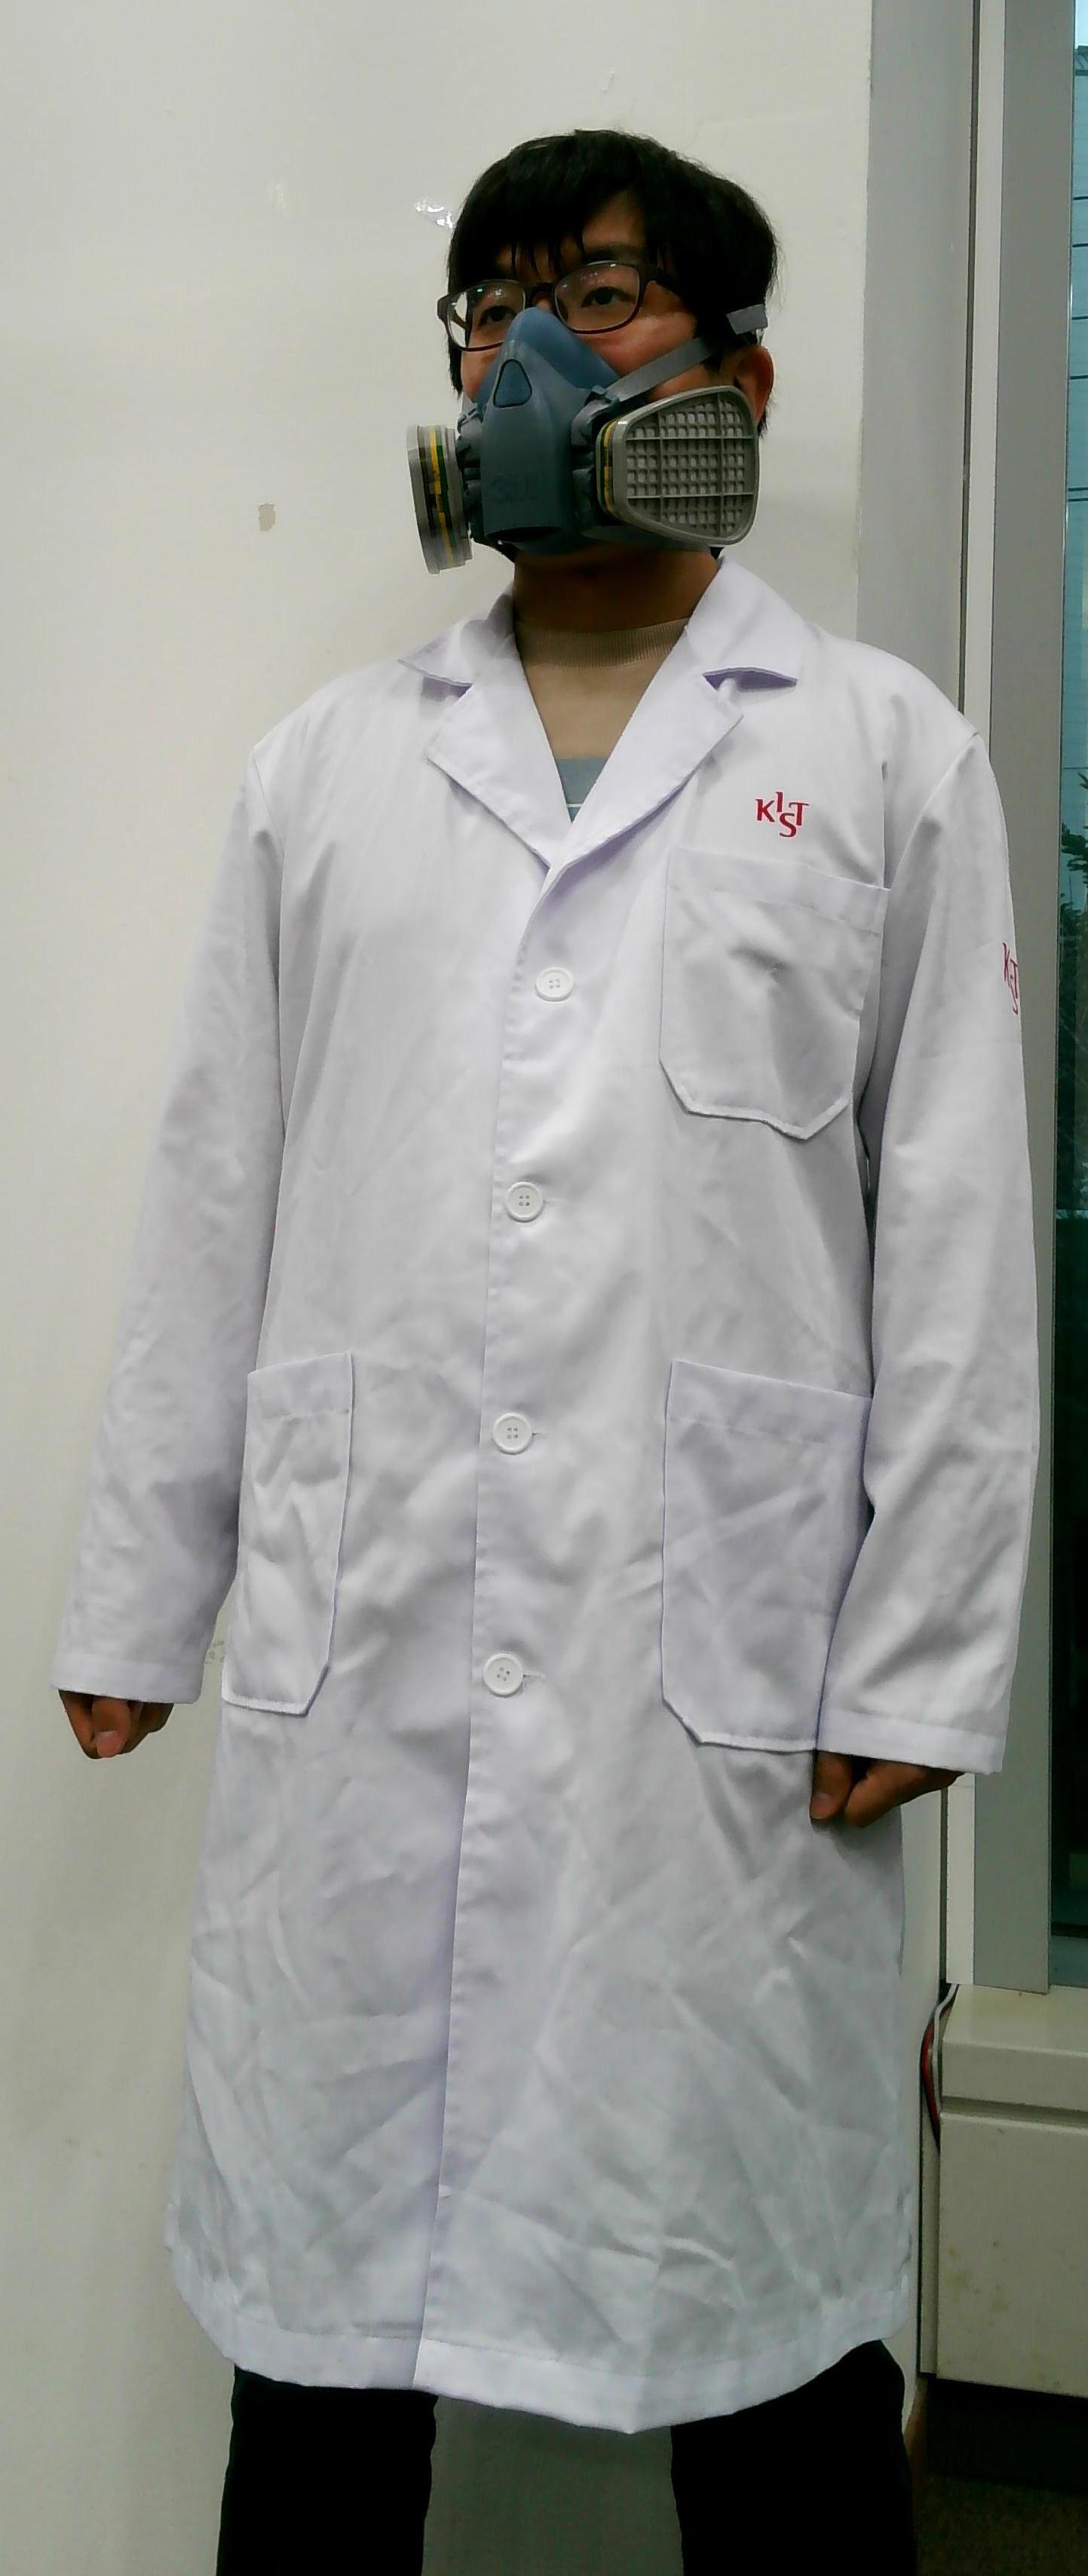lab_coat: (35, 718, 1034, 2351)
